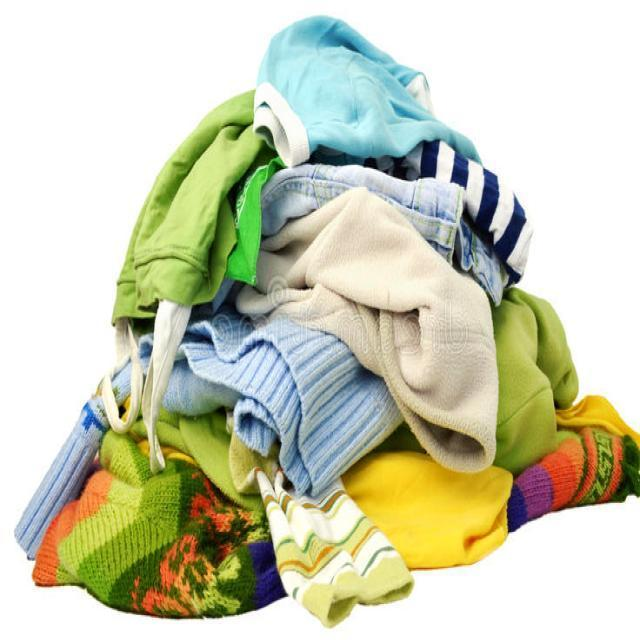clothes: (12, 26, 564, 614)
